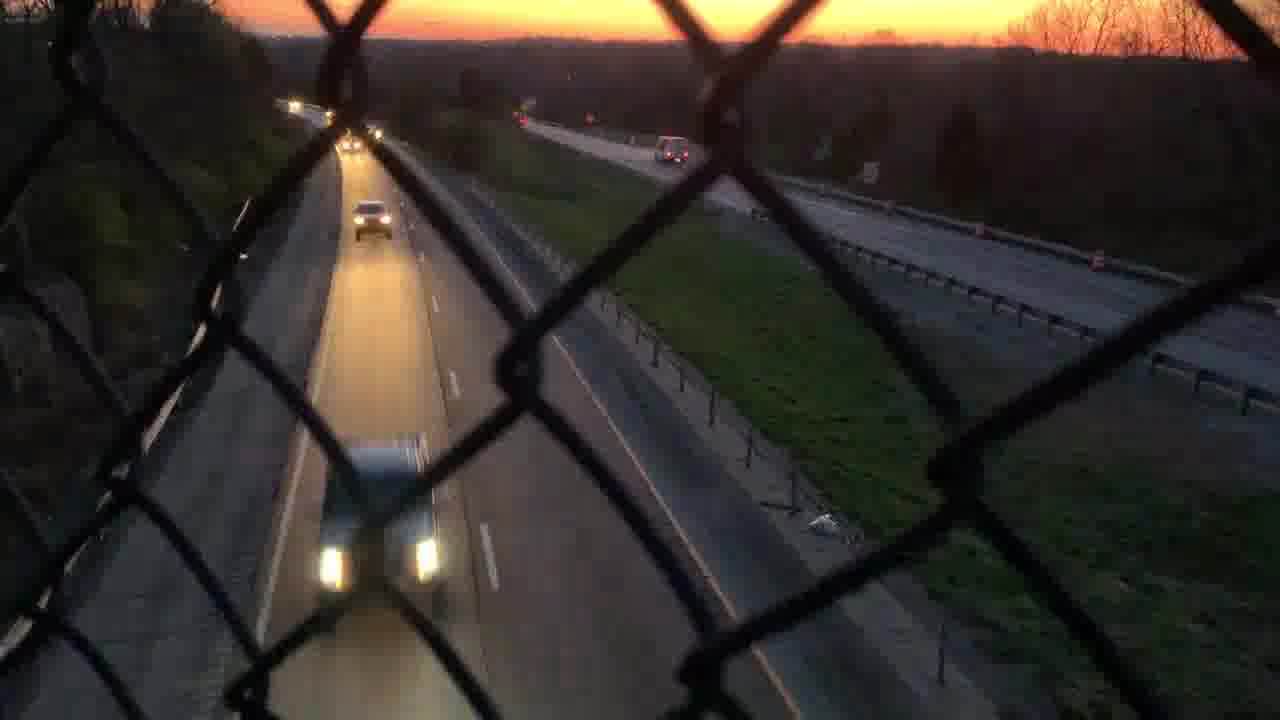heavyTruck: (651, 133, 694, 167)
largeCar: (314, 432, 454, 621), (347, 200, 399, 241)
